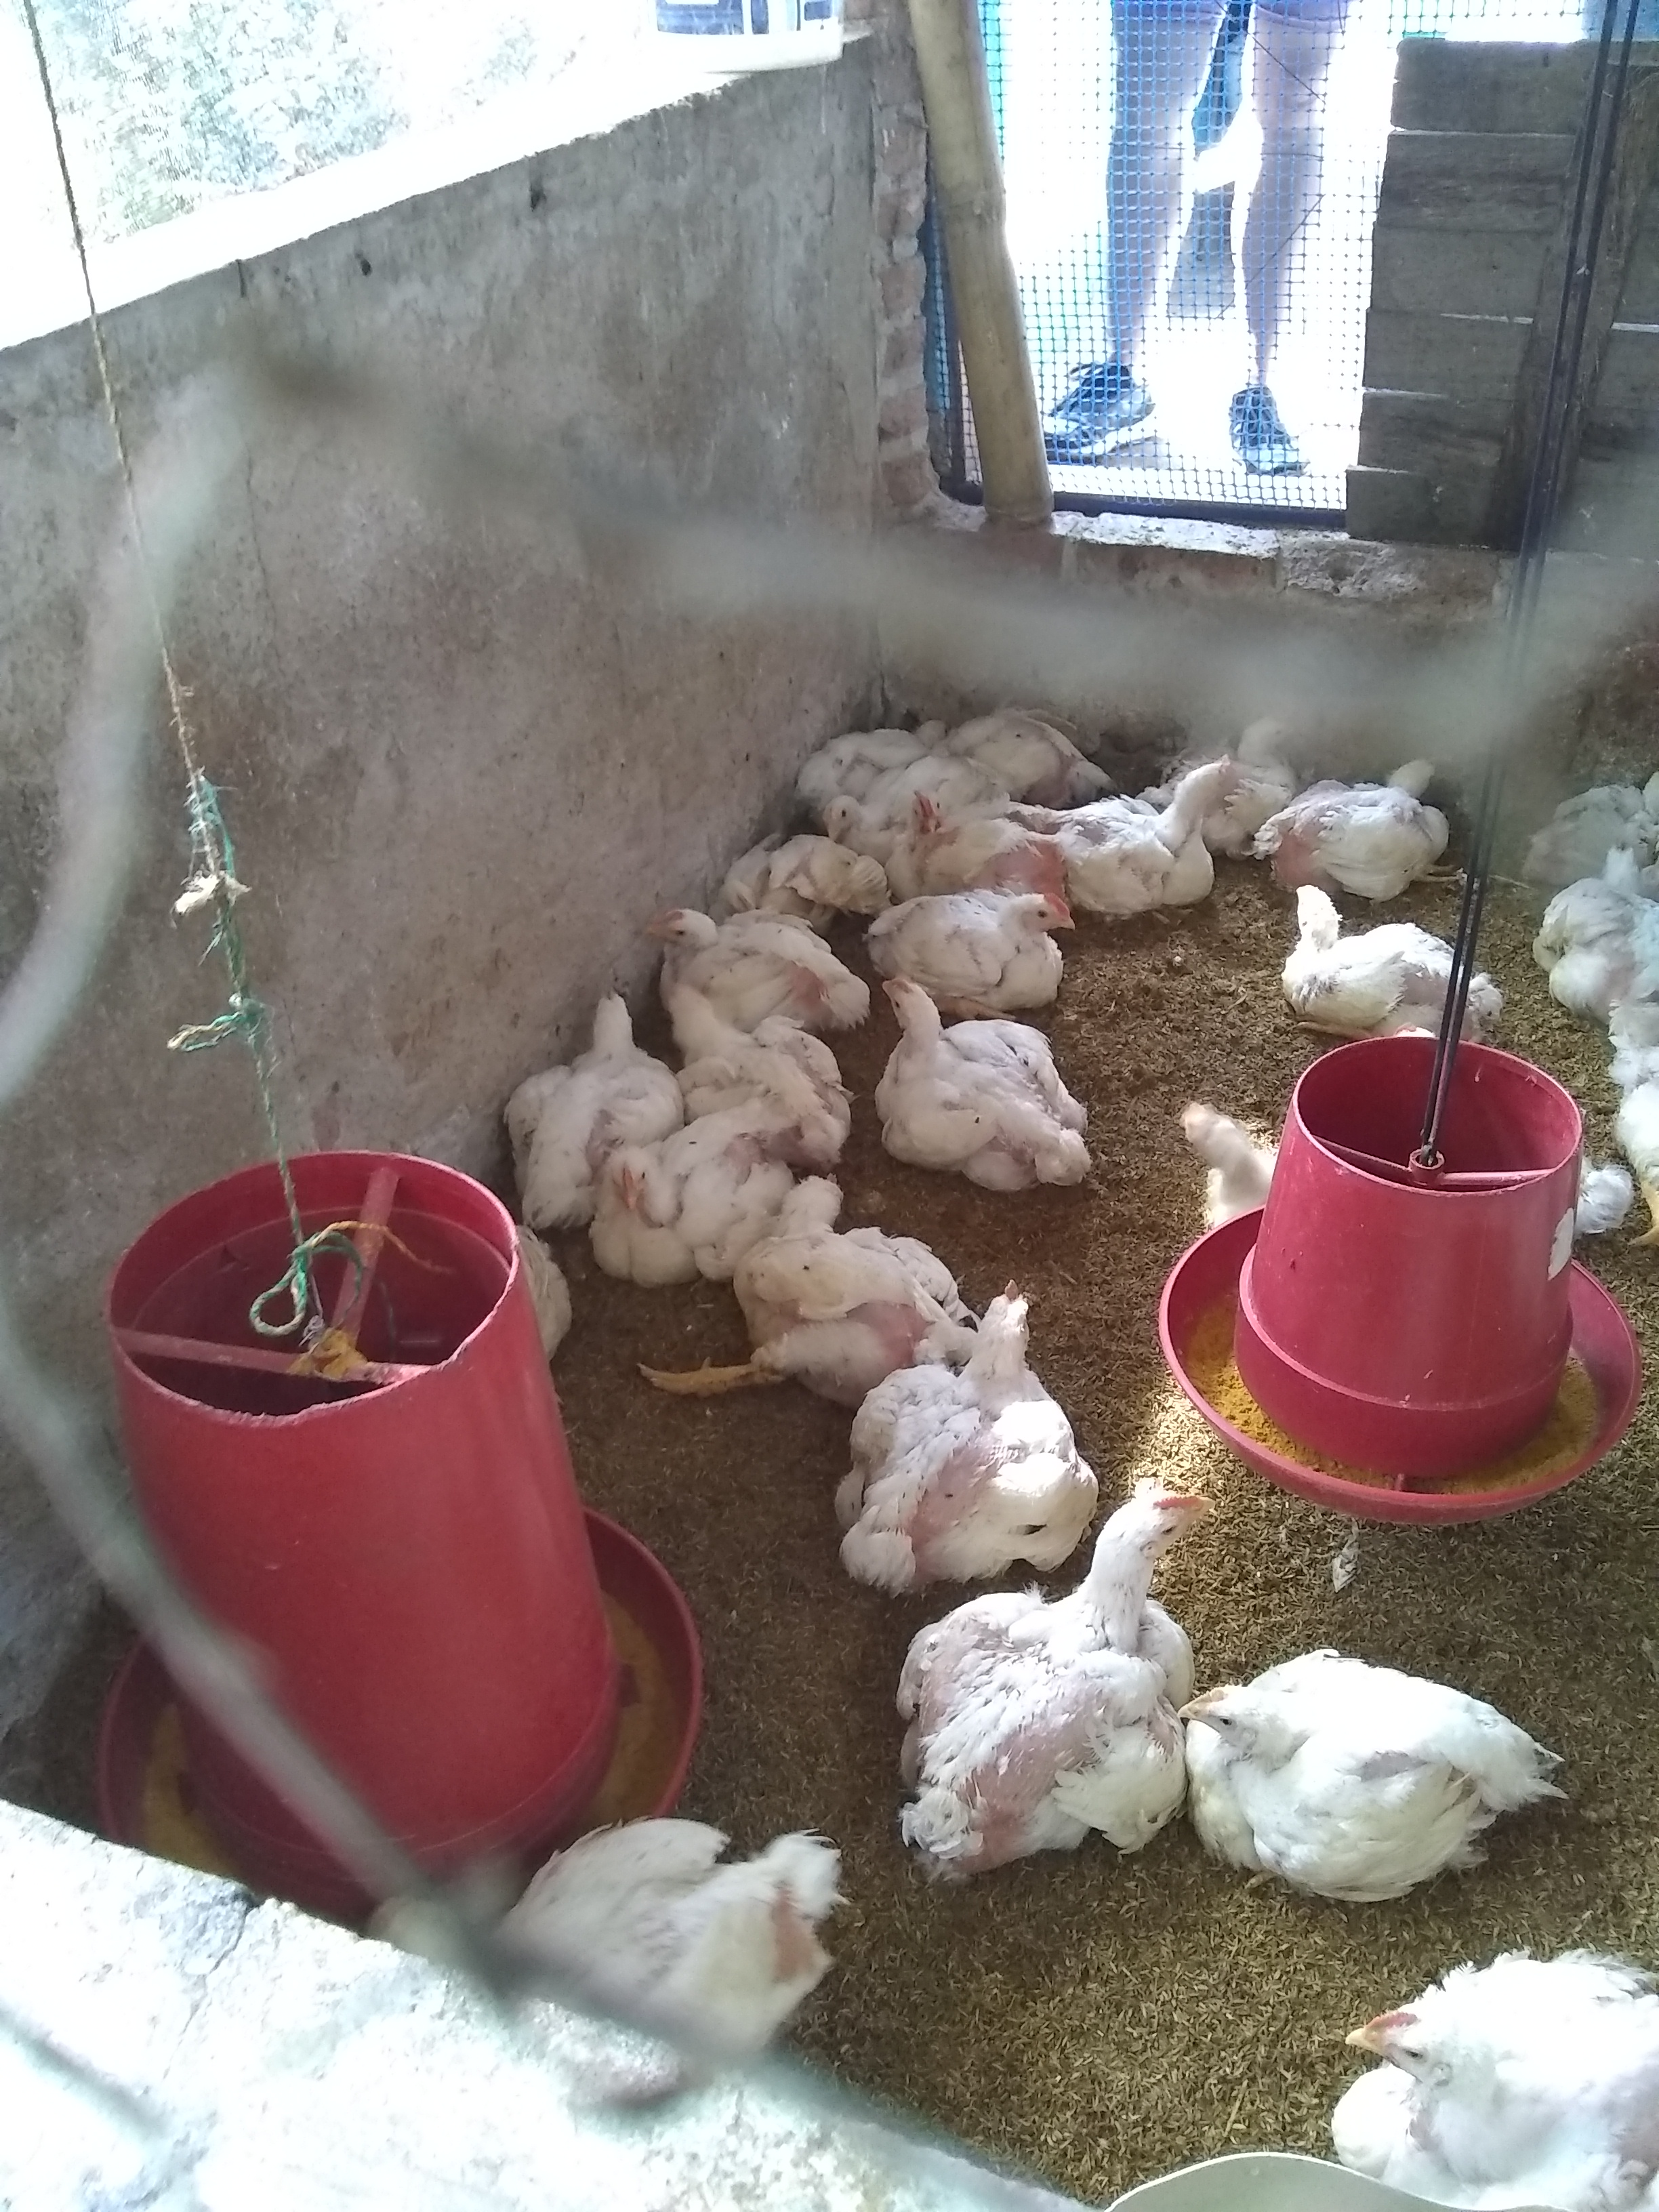Pollos: (899, 1474, 1192, 1864), (1183, 1662, 1565, 1898), (1321, 1956, 1659, 2163), (866, 975, 1093, 1190), (1274, 880, 1509, 1047), (887, 1280, 1063, 1475), (671, 982, 840, 1158), (760, 1165, 873, 1379), (1258, 756, 1460, 874), (591, 1122, 749, 1270), (504, 982, 659, 1122), (1068, 754, 1232, 874), (1553, 833, 1659, 1014), (873, 894, 1079, 977), (638, 899, 863, 972), (875, 763, 1019, 838), (805, 765, 884, 888)
